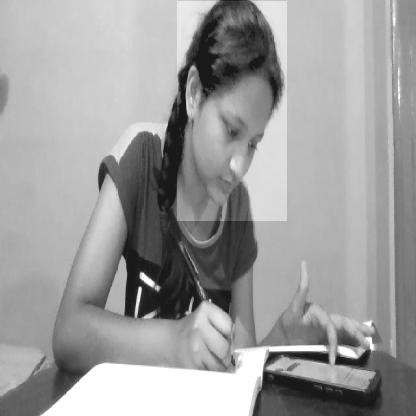Distracted: (177, 1, 287, 222)
